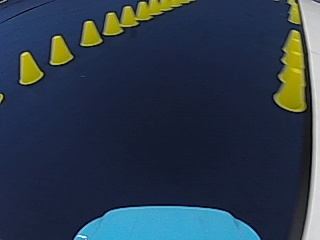cone: (273, 28, 309, 112), (17, 50, 44, 84), (47, 34, 73, 65), (281, 30, 304, 64), (79, 19, 101, 46), (102, 11, 121, 35), (119, 5, 136, 26), (135, 1, 150, 20), (288, 3, 300, 23), (148, 0, 159, 15)
